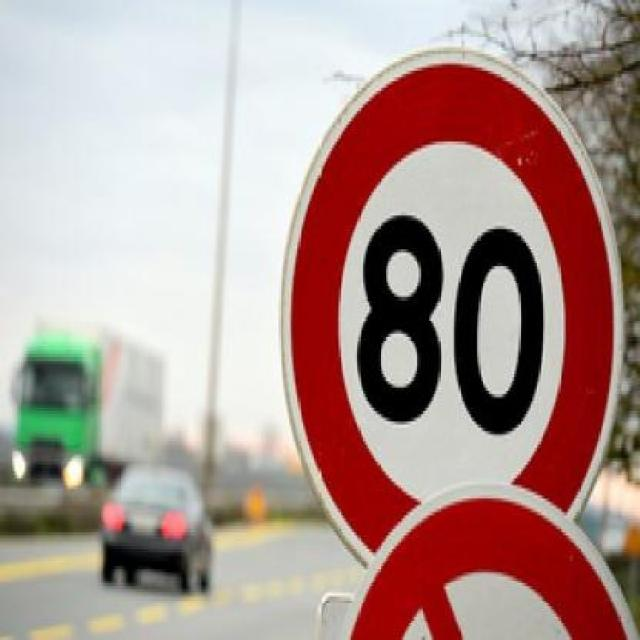forb_speed_over_80: (328, 131, 572, 492)
